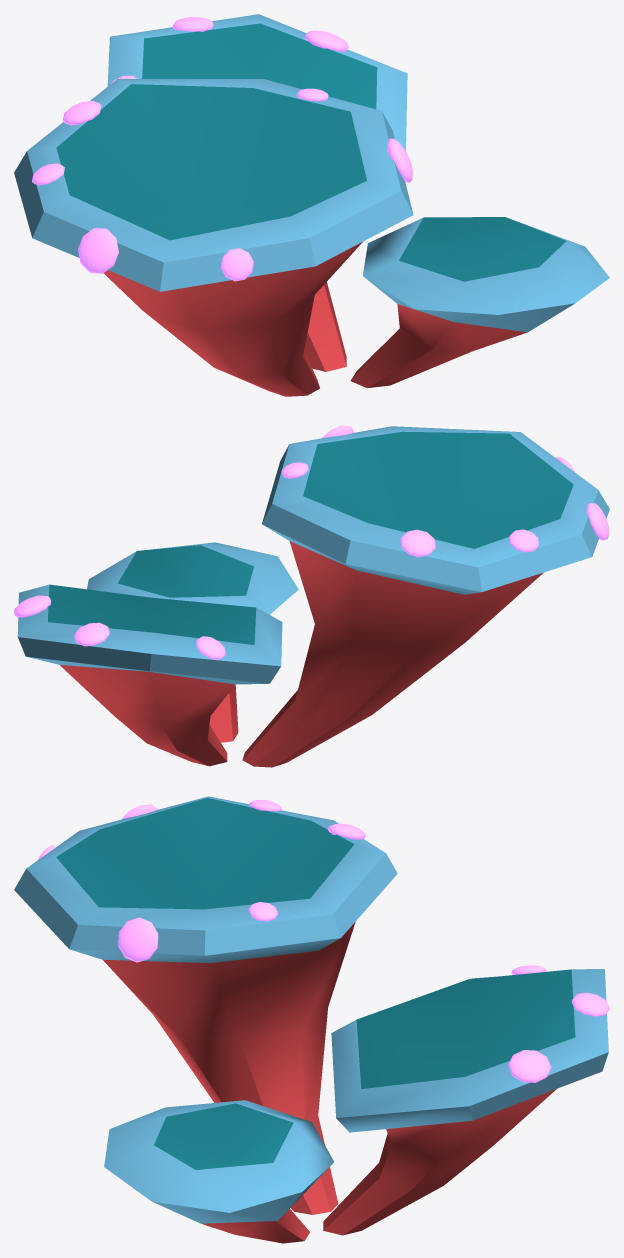
File: cogumelos_fabulosos_touceira_pacote.glb
The picture shows the model from 3 angles, top to bottom: view 1: azimuth 30°, elevation 25°; view 2: azimuth 150°, elevation 25°; view 3: azimuth 270°, elevation 25°; orthographic projection. The views are drawn at different scales.
Visible parts, largest first — view 1: cogumelos_fabulosos_touceira_pacote; view 2: cogumelos_fabulosos_touceira_pacote; view 3: cogumelos_fabulosos_touceira_pacote.
Boxes of the visible parts, x1,y1,x2,y2 form: cogumelos_fabulosos_touceira_pacote: [14, 14, 609, 396]; cogumelos_fabulosos_touceira_pacote: [14, 425, 609, 767]; cogumelos_fabulosos_touceira_pacote: [14, 796, 609, 1243].
Size of the model in its own units: 2.16 by 1.16 by 2.12.
2 materials, 1 textured.
